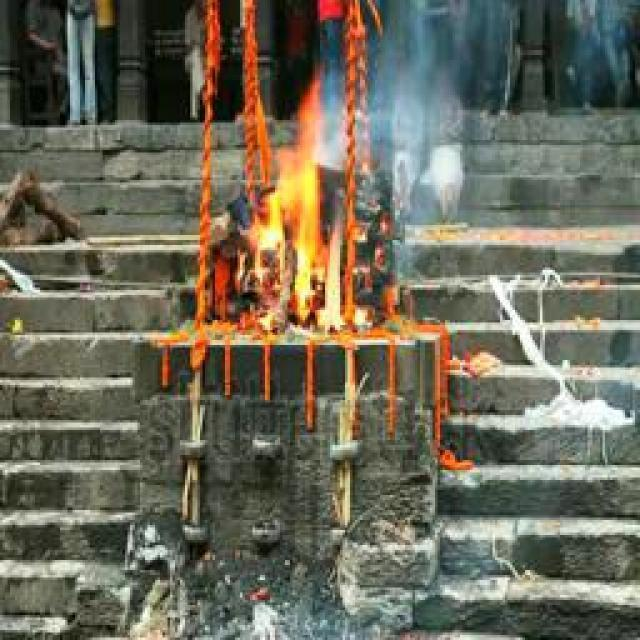Fire: (253, 94, 355, 333)
